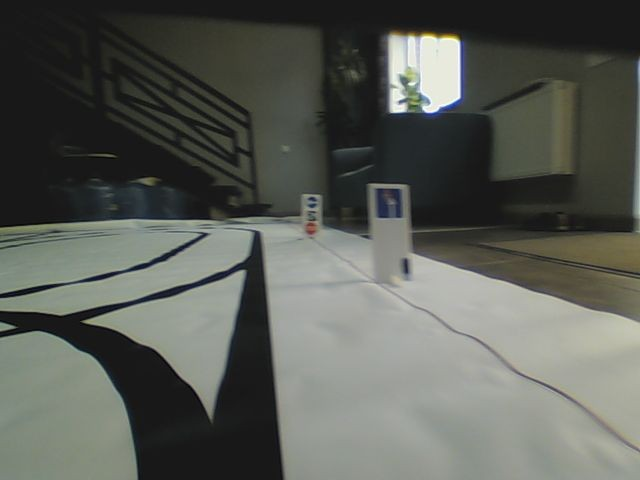priority_movement: (372, 185, 404, 221)
